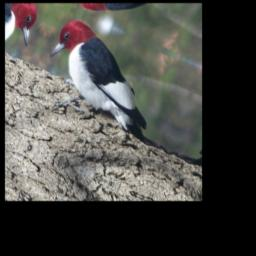Woodpecker: (30, 13, 176, 153)
